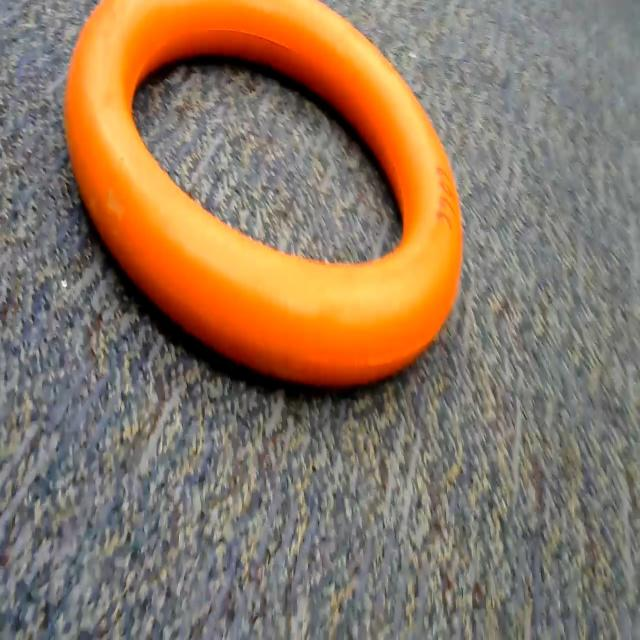note: (53, 0, 472, 405)
